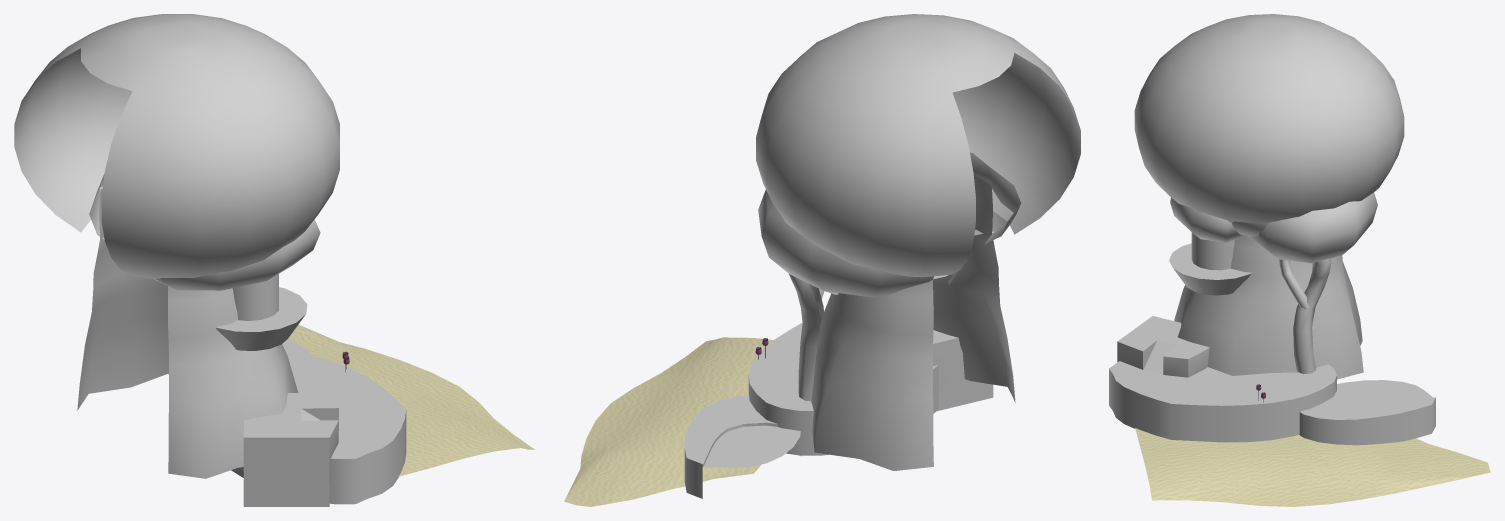
File: eilandmodel.fbx
The picture shows the model from 3 angles, left to right: view 1: azimuth 30°, elevation 25°; view 2: azimuth 150°, elevation 25°; view 3: azimuth 270°, elevation 25°; orthographic projection. The views are drawn at different scales.
Parts seen in each view (by area): view 1: GiantTree:Leaves, GiantTree:stump_shape, Beach:pPlane1, Middle, pCube1, GiantTree:leaf_part_2, GiantTree:Hut_platform, GiantTree:Hut; view 2: GiantTree:Leaves, GiantTree:stump_shape, Beach:pPlane1, pCylinder1, GiantTree:leaf_part_1, Middle, pCube1, GiantTree:Side_Branch_1, GiantTree:leaf_part_2; view 3: GiantTree:Leaves, Beach:pPlane1, GiantTree:stump_shape, Middle, pCylinder1, GiantTree:leaf_part_1, pCube1, GiantTree:Side_Branch_1, GiantTree:Hut_platform, GiantTree:leaf_part_2, GiantTree:Hut, GiantTree:Side_Branch_2.
Part boxes in pixels (x1,y1,x2,y2): GiantTree:Leaves: (14, 14, 339, 278); GiantTree:stump_shape: (77, 188, 298, 478); Beach:pPlane1: (288, 324, 534, 476); Middle: (231, 352, 406, 504); pCube1: (243, 393, 338, 506); GiantTree:leaf_part_2: (154, 219, 320, 290); GiantTree:Hut_platform: (215, 287, 307, 350); GiantTree:Hut: (232, 274, 278, 320); GiantTree:Leaves: (756, 14, 1080, 277); GiantTree:stump_shape: (811, 175, 1015, 470); Beach:pPlane1: (564, 337, 773, 506); pCylinder1: (684, 395, 801, 498); GiantTree:leaf_part_1: (758, 190, 933, 297); Middle: (748, 322, 938, 455); pCube1: (933, 330, 993, 411); GiantTree:Side_Branch_1: (789, 274, 824, 401); GiantTree:leaf_part_2: (970, 152, 1021, 244); GiantTree:Leaves: (1134, 14, 1404, 223); Beach:pPlane1: (1135, 428, 1490, 506); GiantTree:stump_shape: (1174, 235, 1363, 379); Middle: (1109, 361, 1336, 442); pCylinder1: (1299, 380, 1435, 445); GiantTree:leaf_part_1: (1248, 192, 1377, 263); pCube1: (1117, 316, 1209, 377); GiantTree:Side_Branch_1: (1293, 258, 1331, 374); GiantTree:Hut_platform: (1169, 243, 1251, 295); GiantTree:leaf_part_2: (1170, 197, 1245, 242); GiantTree:Hut: (1191, 232, 1234, 270); GiantTree:Side_Branch_2: (1279, 259, 1308, 309).
Size of the model in its own units: 16.69 by 16.61 by 16.14.
